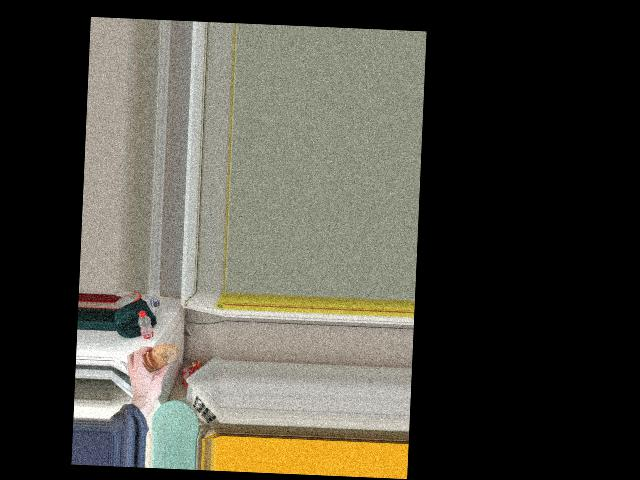sweet_potato: (140, 341, 172, 373)
